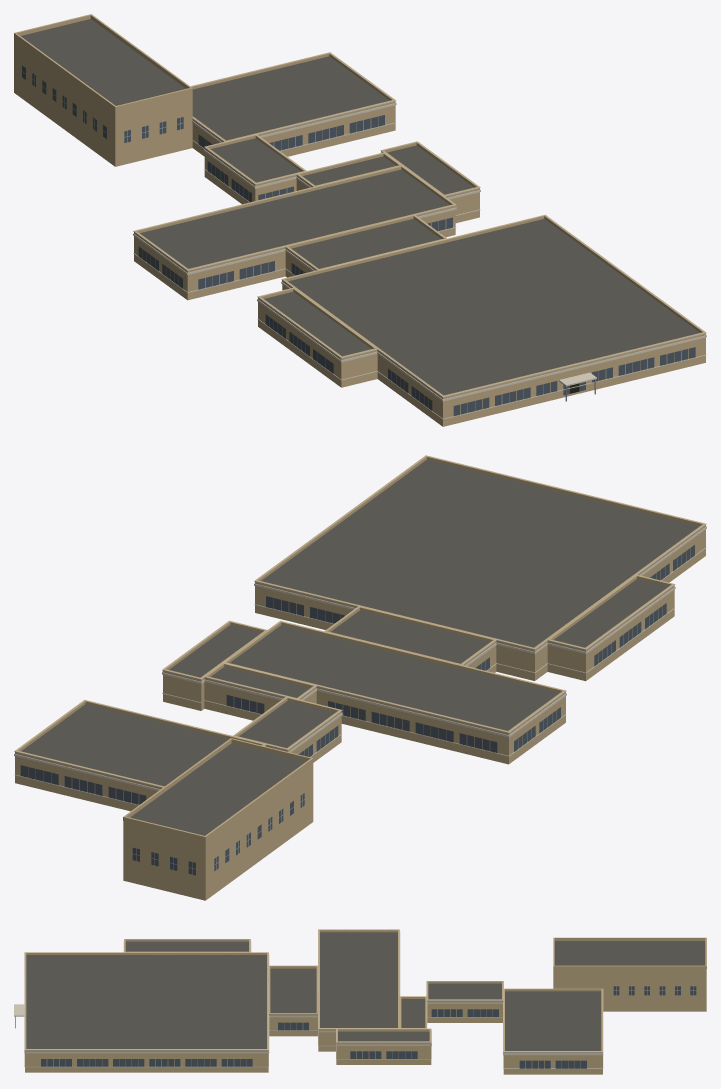
File: indian-hills-elementary-nlr.glb
3 renders of one model, top to bottom at view 1: azimuth 30°, elevation 25°; view 2: azimuth 150°, elevation 25°; view 3: azimuth 270°, elevation 25°, orthographic. The views are drawn at different scales.
Visible parts, largest first — view 1: indian_hills_elementary_nlr; view 2: indian_hills_elementary_nlr; view 3: indian_hills_elementary_nlr.
Part boxes in pixels (x1=…): indian_hills_elementary_nlr: x1=14, y1=14, x2=706, y2=426; indian_hills_elementary_nlr: x1=14, y1=455, x2=706, y2=900; indian_hills_elementary_nlr: x1=14, y1=929, x2=706, y2=1074.
Bounding box in the file's own units: 64.24 × 11.1 × 153.
